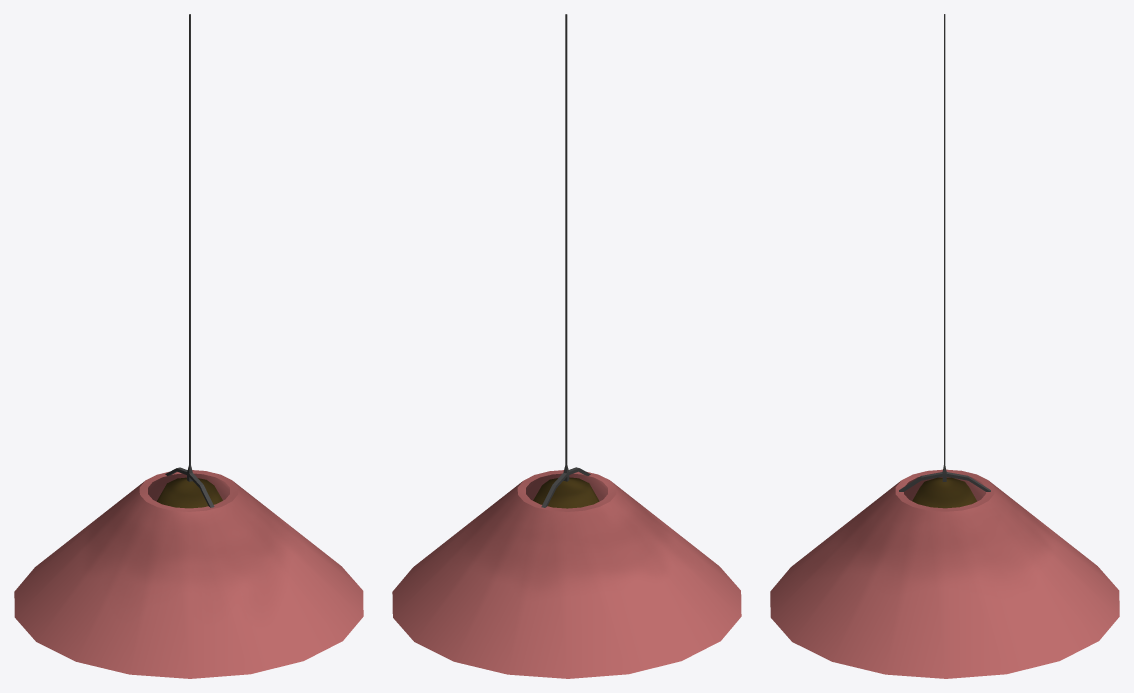
Rendered from ceilinglampdone.FBX.
3 views of the same model, side by side, from view 1: azimuth 30°, elevation 25°; view 2: azimuth 150°, elevation 25°; view 3: azimuth 270°, elevation 25° (orthographic).
Visible parts, largest first — view 1: Tube001, Sphere001, Box001; view 2: Tube001, Box001, Sphere001; view 3: Tube001, Sphere001, Box001.
Boxes of the visible parts, x1,y1,x2,y2 form: Tube001: (14,470,363,678); Sphere001: (157,477,222,508); Box001: (165,14,214,507); Tube001: (392,470,741,678); Box001: (541,14,590,507); Sphere001: (533,477,599,508); Tube001: (770,469,1119,678); Sphere001: (912,477,976,508); Box001: (899,14,990,491).
Size of the model in its own units: 72.78 by 138 by 71.77.
1 material, 1 textured.
